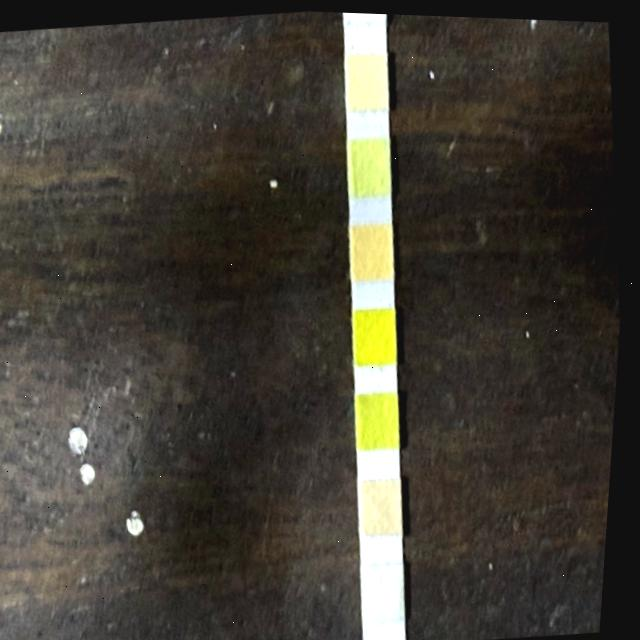Bilirubin: (366, 559, 414, 617)
Blood: (355, 304, 403, 361)
Ketone: (362, 473, 410, 530)
Nitrite: (342, 10, 384, 21)
Protein: (345, 136, 393, 193)
SpGravity: (358, 390, 406, 447)
Urobilinogen: (342, 51, 390, 108)
pH: (350, 221, 398, 278)
